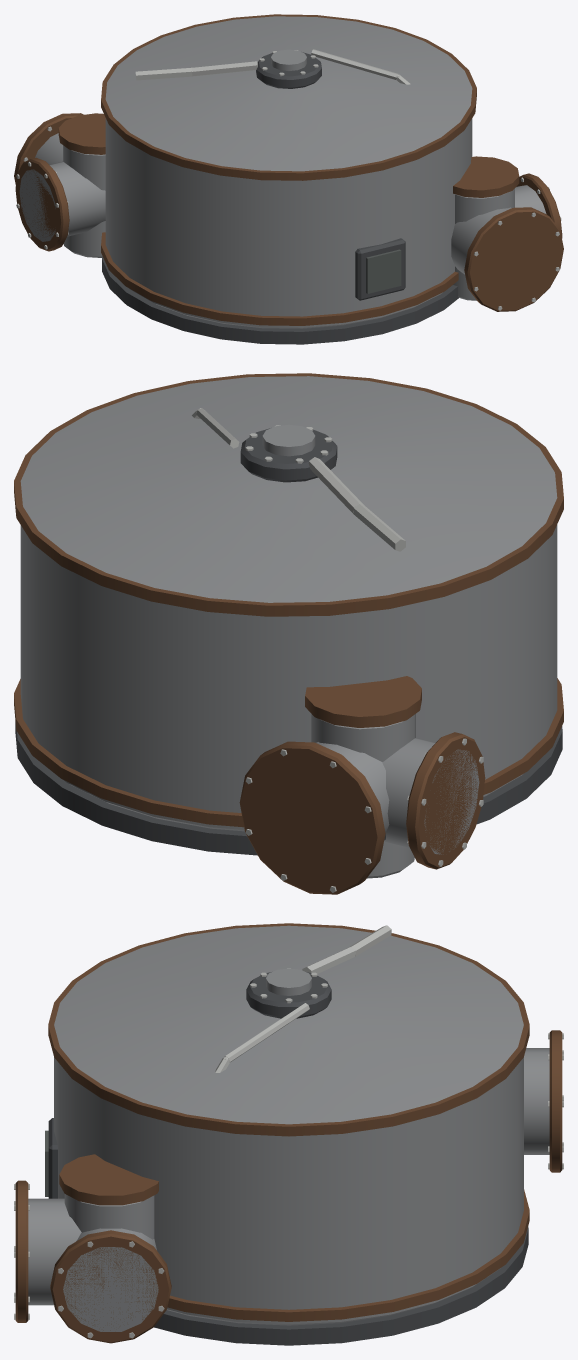
File: storage-tank.glb
The picture shows the model from 3 angles, top to bottom: view 1: azimuth 30°, elevation 25°; view 2: azimuth 150°, elevation 25°; view 3: azimuth 270°, elevation 25°; orthographic projection. The views are drawn at different scales.
Parts seen in each view (by area): view 1: body; view 2: body; view 3: body.
Part boxes in pixels (x1,y1,x2,y2): body: [14, 14, 563, 344]; body: [14, 373, 563, 894]; body: [14, 923, 563, 1345].
Size of the model in its own units: 3.02 by 1.65 by 3.09.
